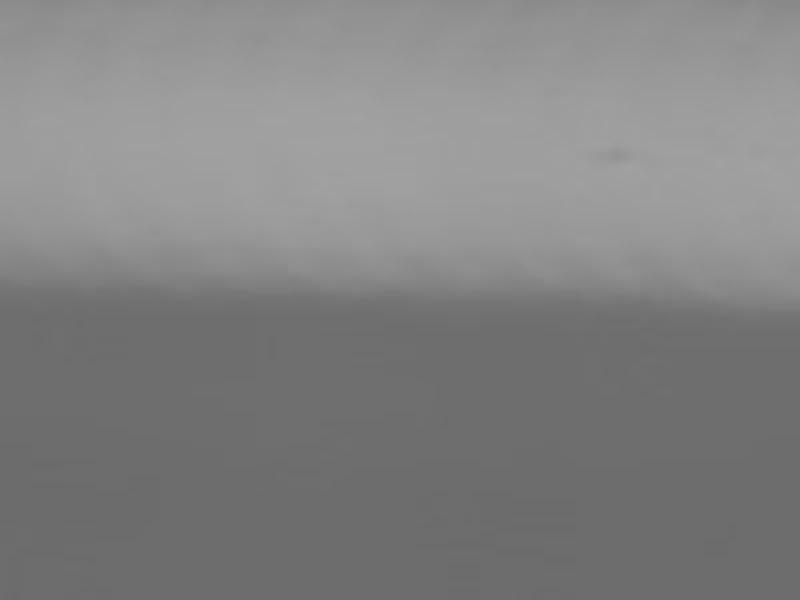defect: (582, 142, 639, 167)
